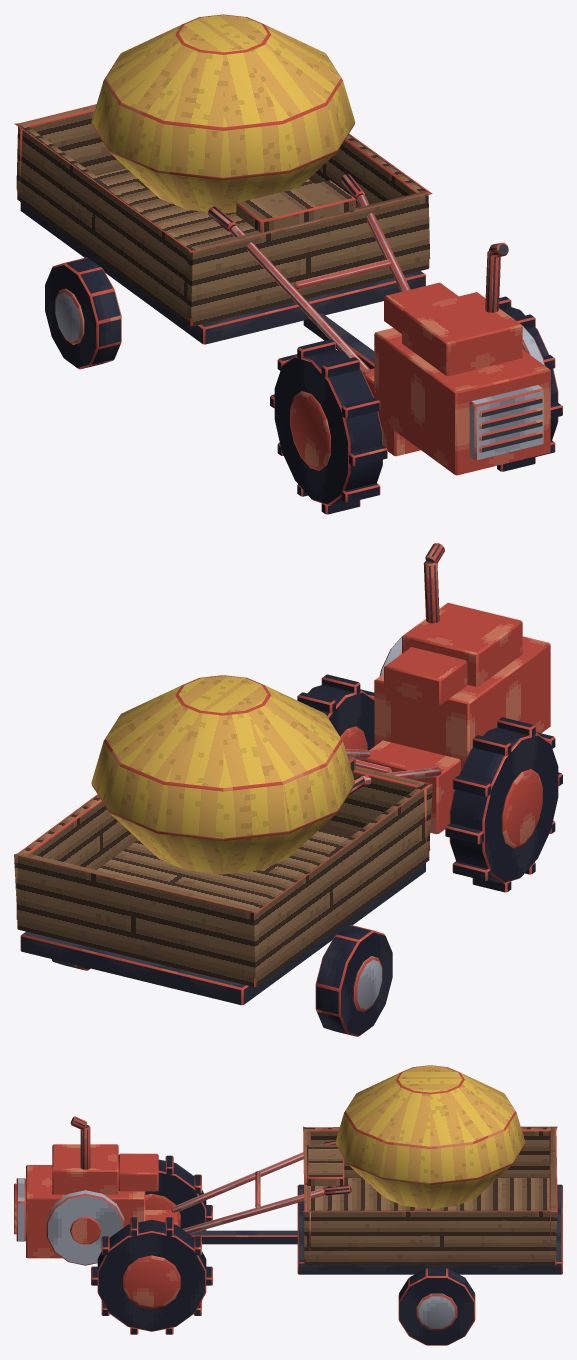
Rendered from cn_walking_tractor_1.glb.
The picture shows the model from 3 angles, top to bottom: view 1: azimuth 30°, elevation 25°; view 2: azimuth 150°, elevation 25°; view 3: azimuth 270°, elevation 25°; orthographic projection. The views are drawn at different scales.
Parts seen in each view (by area): view 1: cn_walking_tractor_2; view 2: cn_walking_tractor_2; view 3: cn_walking_tractor_2.
Boxes of the visible parts, left/top/right/bottom form: cn_walking_tractor_2: left=14, top=14, right=562, bottom=514; cn_walking_tractor_2: left=14, top=543, right=562, bottom=1036; cn_walking_tractor_2: left=14, top=1065, right=562, bottom=1345.
Bounding box in the file's own units: 1.89 × 1.82 × 4.14.
Materials: 8 (8 with a texture image).
